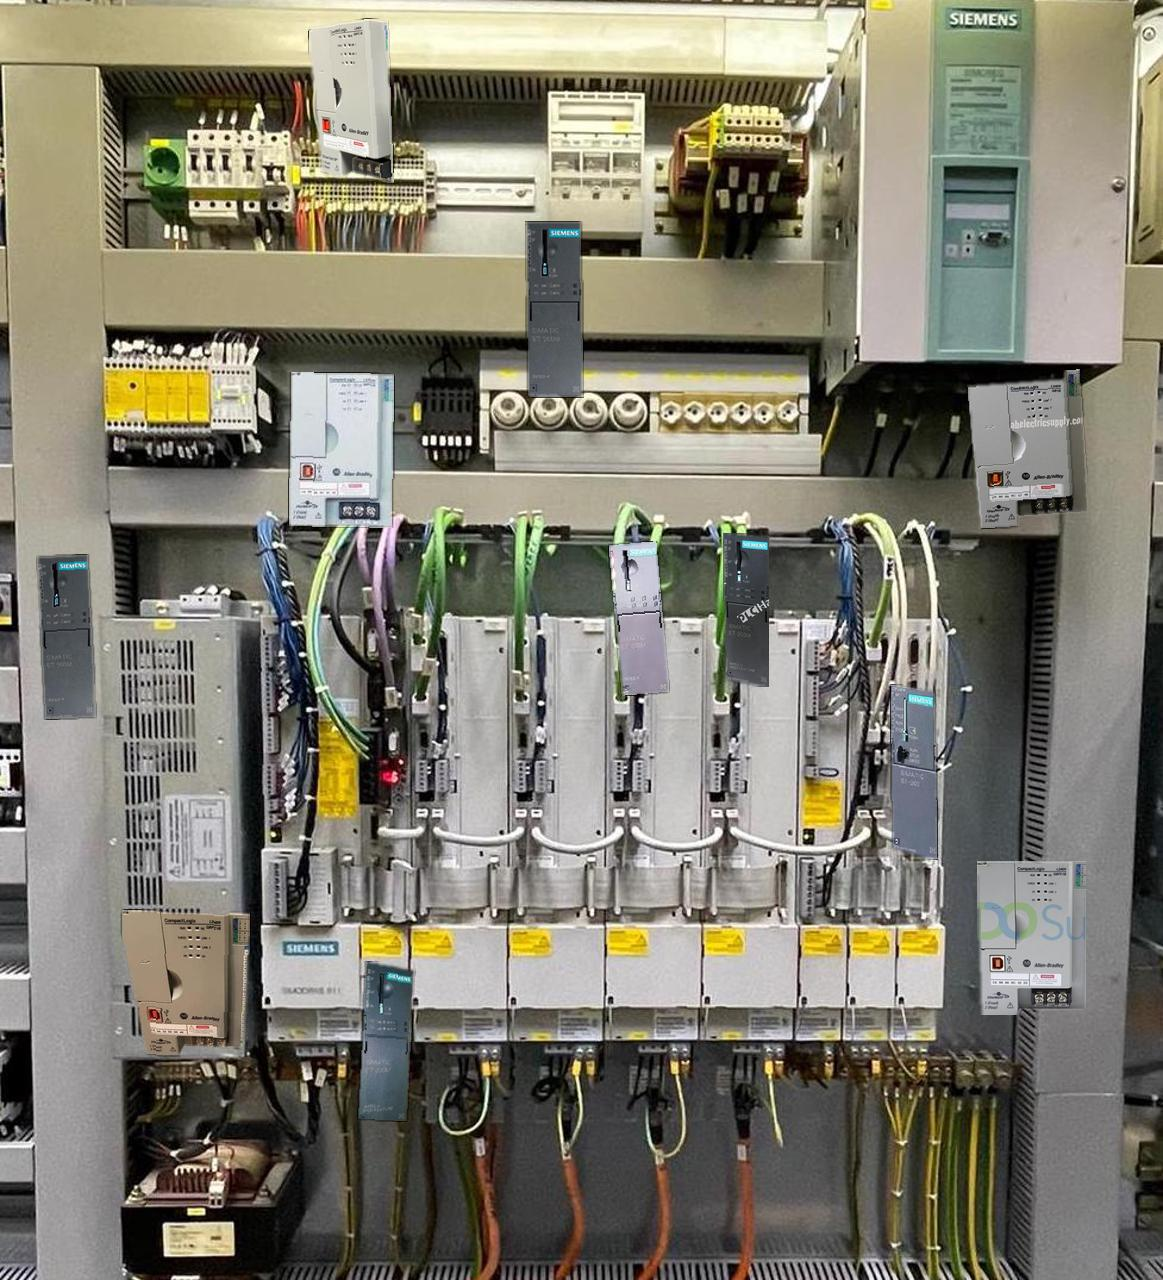AllenBradley: (967, 369, 1086, 527), (122, 910, 249, 1054), (977, 861, 1085, 1014), (289, 372, 392, 526), (308, 19, 392, 182)
Siemens: (890, 685, 937, 859)
